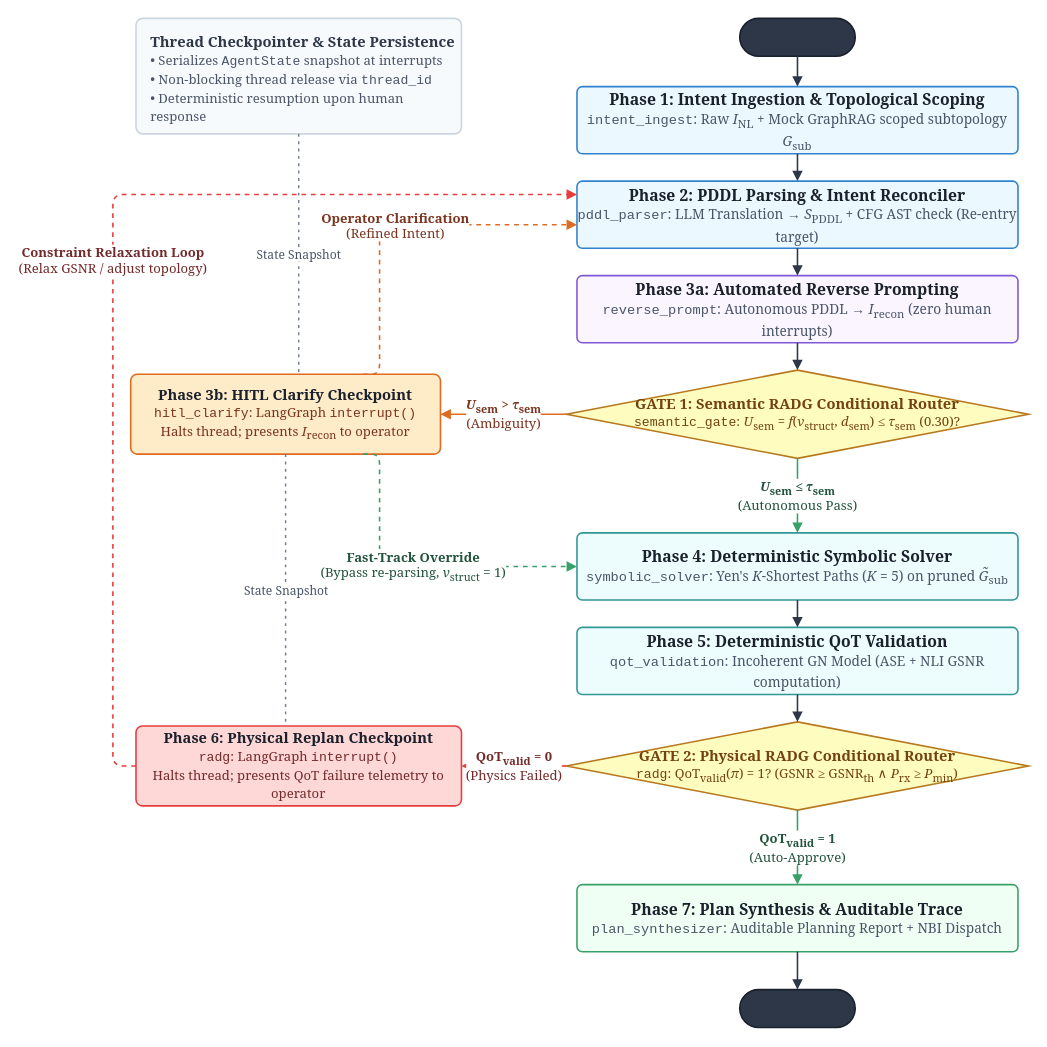
Some shapes in this 1047 by 1047 pixel diagram are drawn without their labels. The shapes that lost their labels are listed below. From the top down, each one's centre as x and y in pixels, then its label:
the point at 797,36: START
the point at 797,1008: END
